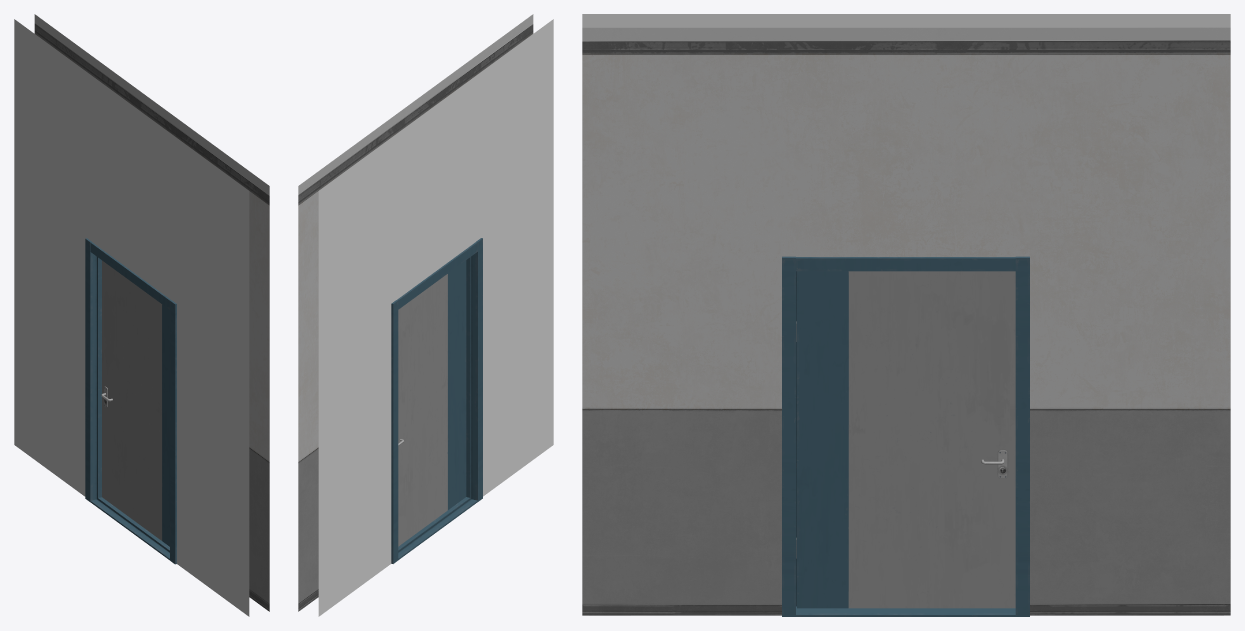
Rendered from HH_Hospital_PartitionWall_Door_02.fbx.
The picture shows the model from 3 angles, left to right: view 1: azimuth 30°, elevation 25°; view 2: azimuth 150°, elevation 25°; view 3: azimuth 270°, elevation 25°; orthographic projection. The views are drawn at different scales.
Visible parts, largest first — view 1: HH_Hospital_PartitionWall_Door_02_LOD0, HH_Interior_Doors_02_LOD0; view 2: HH_Hospital_PartitionWall_Door_02_LOD0, HH_Interior_Doors_02_LOD0; view 3: HH_Hospital_PartitionWall_Door_02_LOD0, HH_Interior_Doors_02_LOD0.
Boxes of the visible parts, left/top/right/bottom form: HH_Hospital_PartitionWall_Door_02_LOD0: left=14, top=14, right=269, bottom=616; HH_Interior_Doors_02_LOD0: left=101, top=260, right=169, bottom=546; HH_Hospital_PartitionWall_Door_02_LOD0: left=298, top=14, right=553, bottom=616; HH_Interior_Doors_02_LOD0: left=398, top=260, right=466, bottom=546; HH_Hospital_PartitionWall_Door_02_LOD0: left=582, top=14, right=1230, bottom=616; HH_Interior_Doors_02_LOD0: left=797, top=271, right=1015, bottom=608.
Size of what is drawn, in the model's own units: 23.9 by 400 by 400.
